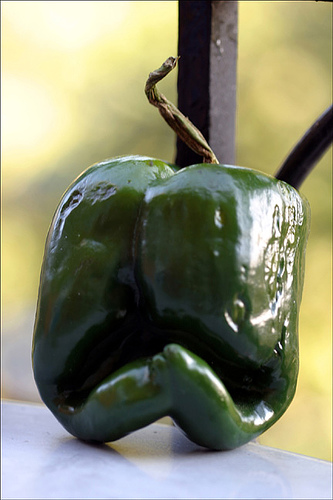capsicum: (30, 53, 310, 453)
